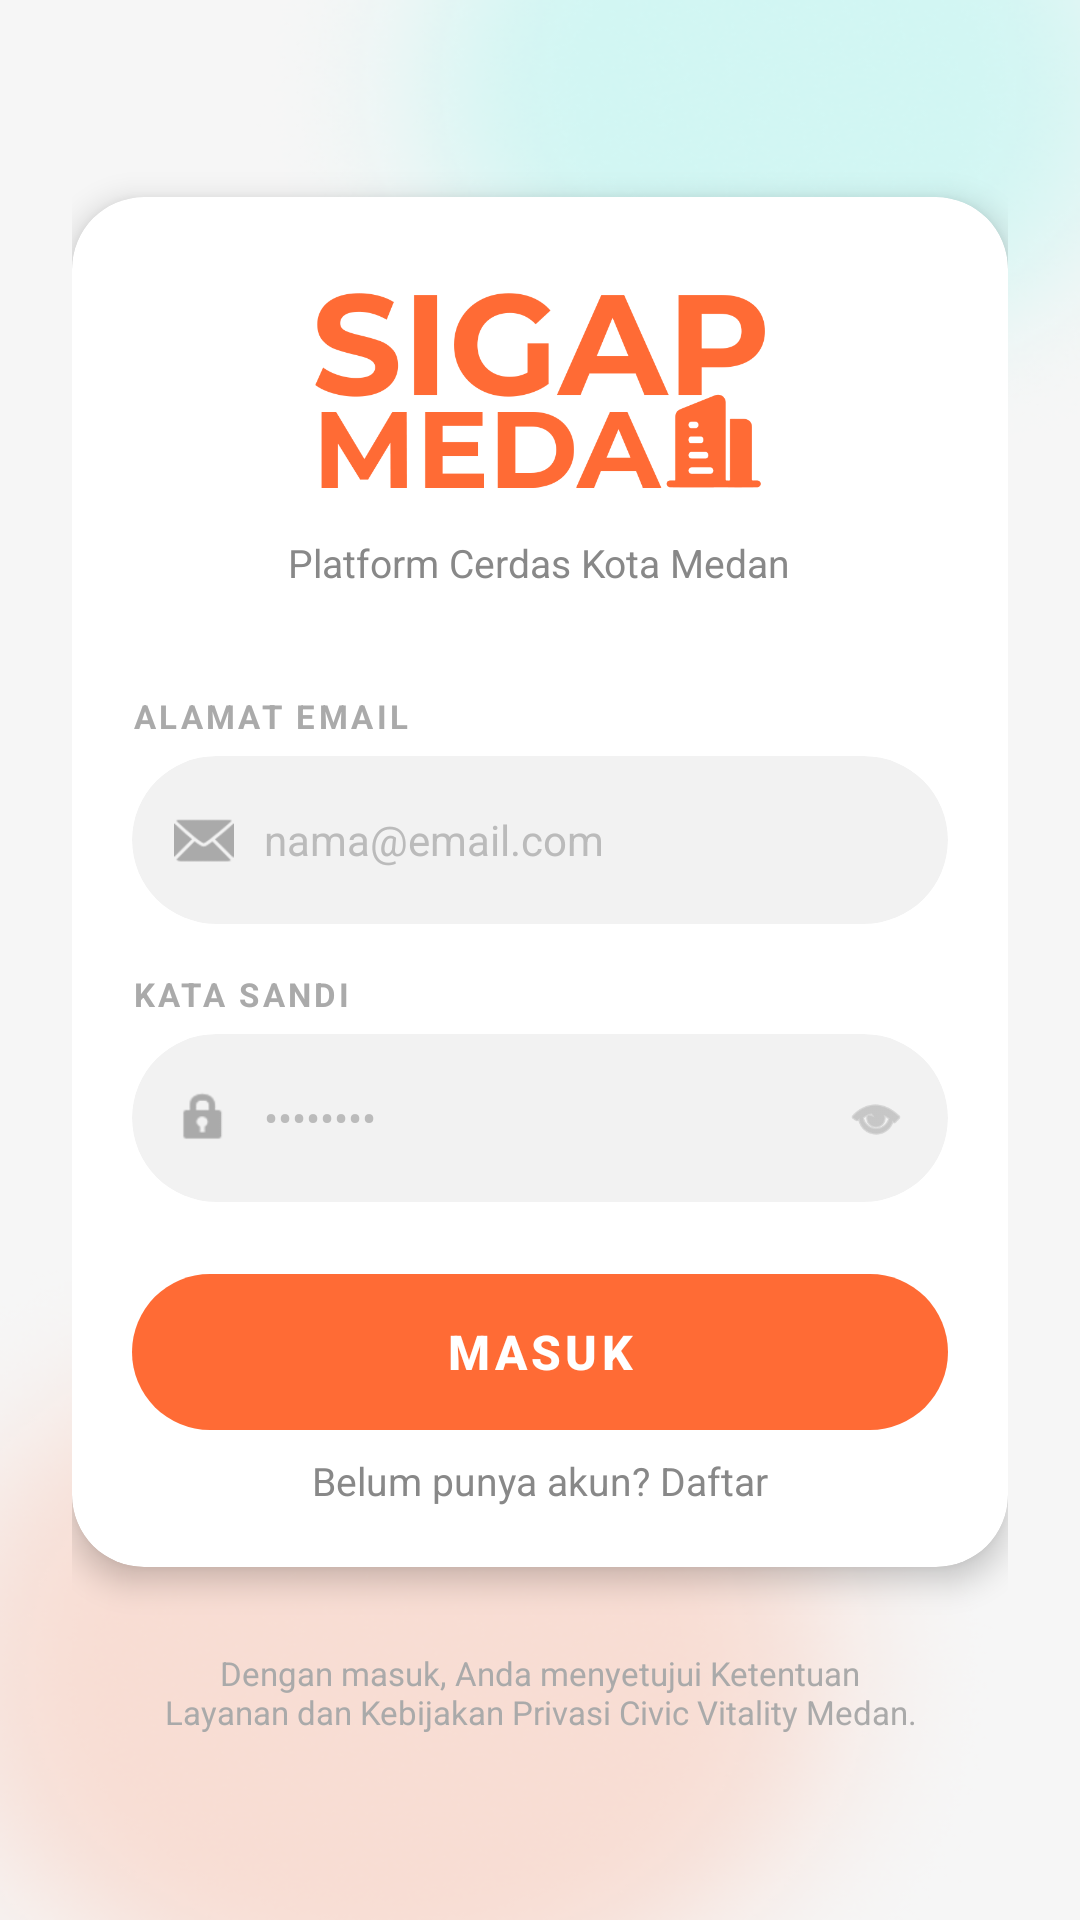

Icon bounding boxes for this 1080px×1920px phone screenshot, format bbox=(x1, y1, x2, y2):
lock idle: bbox=(183, 1094, 222, 1139)
view: bbox=(852, 1105, 900, 1134)
